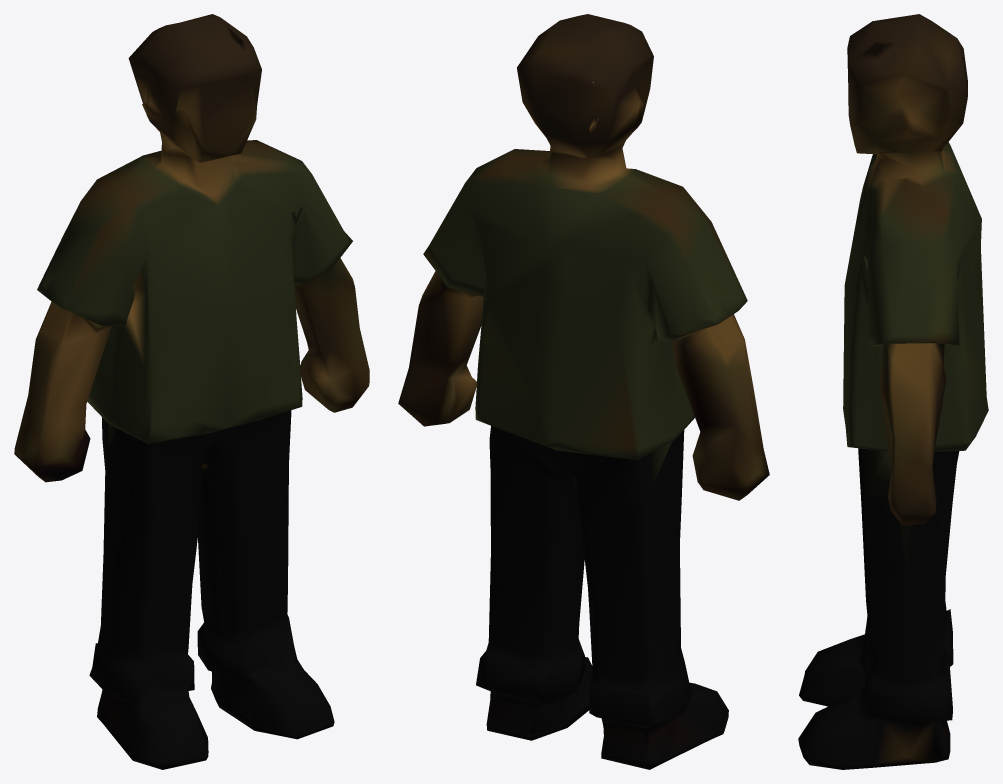
The model's file is gen3d-customer-lod0.glb.
3 views of the same model, side by side, from view 1: azimuth 30°, elevation 25°; view 2: azimuth 150°, elevation 25°; view 3: azimuth 270°, elevation 25° (orthographic). The views are drawn at different scales.
Parts seen in each view (by area): view 1: part_0; view 2: part_0; view 3: part_0.
Boxes of the visible parts, <box> form: part_0: <box>14,14,369,769</box>; part_0: <box>398,14,769,769</box>; part_0: <box>798,14,988,769</box>.
Bounding box in the file's own units: 0.5166 × 1 × 0.2481.
